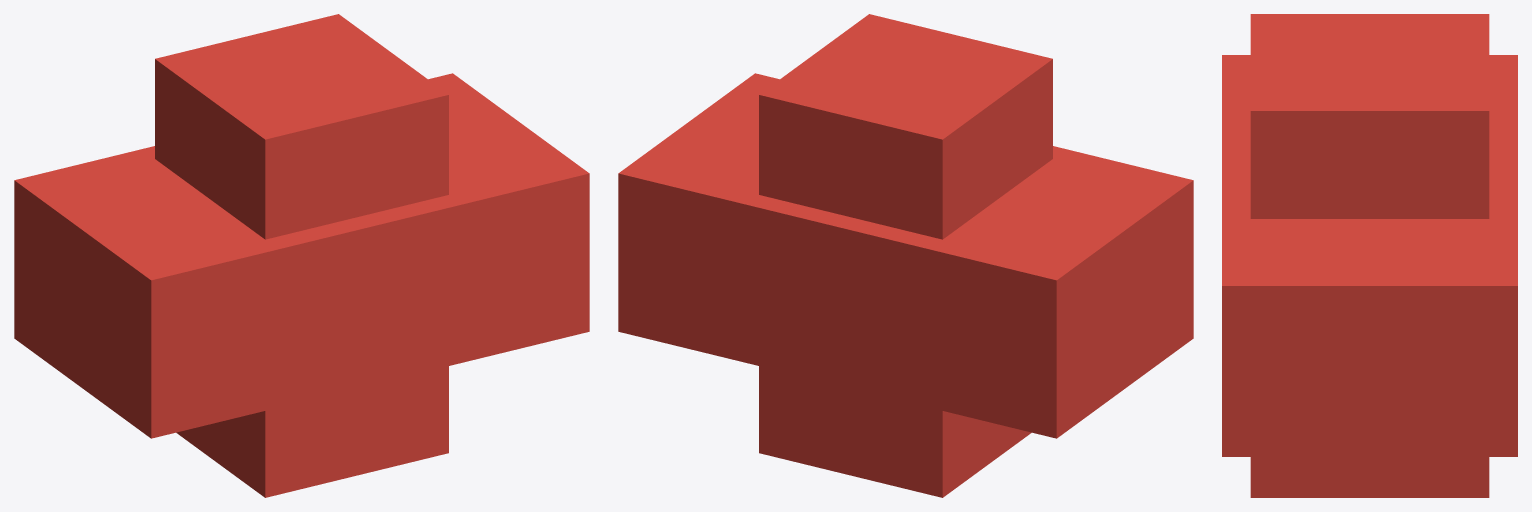
The model's file is Health.glb.
3 renders of one model, left to right at view 1: azimuth 30°, elevation 25°; view 2: azimuth 150°, elevation 25°; view 3: azimuth 270°, elevation 25°, orthographic. The views are drawn at different scales.
Visible parts, largest first — view 1: Cube, Cube.001; view 2: Cube, Cube.001; view 3: Cube, Cube.001.
Boxes of the visible parts, x1,y1,x2,y2 form: Cube: (14,73,589,438); Cube.001: (155,14,448,497); Cube: (618,73,1193,438); Cube.001: (759,14,1052,497); Cube: (1222,55,1517,456); Cube.001: (1250,14,1489,497).
Size of the model in its own units: 4.29 by 3.35 by 2.32.
